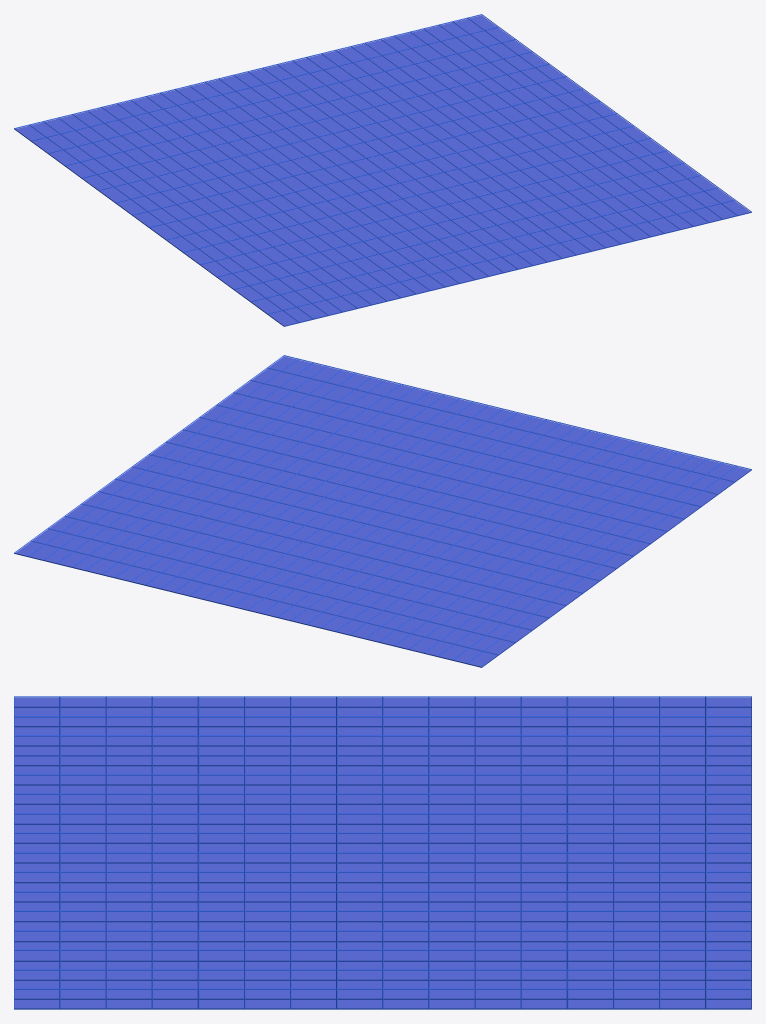
File: siataka2332233232.fbx
3 renders of one model, top to bottom at view 1: azimuth 30°, elevation 25°; view 2: azimuth 150°, elevation 25°; view 3: azimuth 270°, elevation 25°, orthographic. The views are drawn at different scales.
Parts seen in each view (by area): view 1: Plane.001, Plane; view 2: Plane.001, Plane; view 3: Plane.001, Plane.
Part boxes in pixels (box(x1,y1,x2,y2)): Plane.001: box(15, 15, 749, 325); Plane: box(14, 14, 751, 326); Plane.001: box(16, 356, 750, 666); Plane: box(14, 355, 751, 667); Plane.001: box(14, 698, 751, 1008); Plane: box(14, 696, 751, 1009).
Size of the model in its own units: 9815 by 22.24 by 9815.
